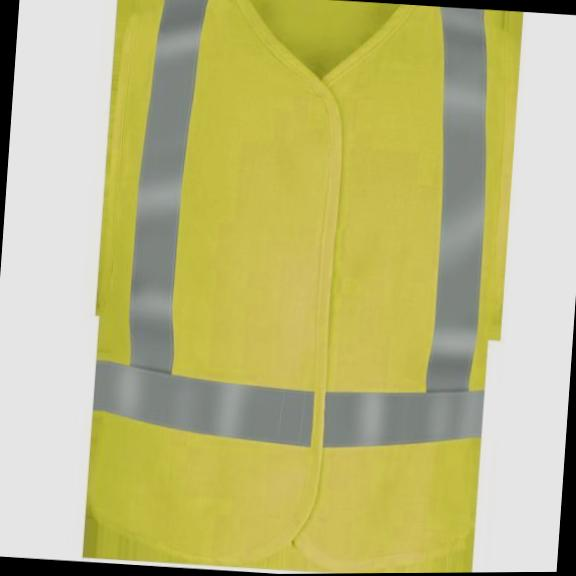safety_vest: (79, 0, 525, 575)
